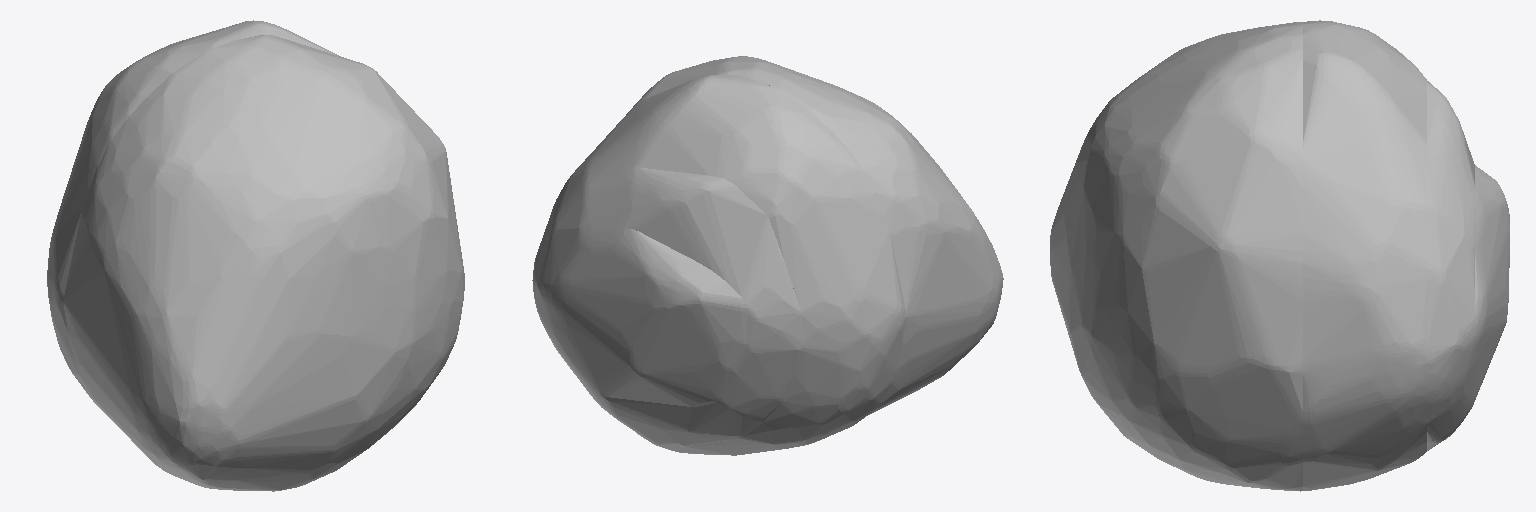
URDF robot description (root):
<robot name="root">
  <link name="link_coacd_convex_piece_0">
    <inertial>
      <origin xyz="0 0 0" rpy="0 0 0"/>
      <inertia ixx="1.75E-01" ixy="-2.16E-02" ixz="-5.01E-03" iyy="1.94E-01" iyz="-1.67E-02" izz="1.80E-01"/>
    </inertial>
    <visual>
      <origin xyz="0 0 0" rpy="0 0 0"/>
      <geometry>
        <mesh filename="coacd_convex_piece_0.obj" scale="1.0000E+00 1.0000E+00 1.0000E+00"/>
      </geometry>
      <material name="">
        <color rgba="7.50E-01 7.50E-01 7.50E-01 1"/>
      </material>
    </visual>
    <collision>
      <origin xyz="0 0 0" rpy="0 0 0"/>
      <geometry>
        <mesh filename="coacd_convex_piece_0.obj" scale="1.0000E+00 1.0000E+00 1.0000E+00"/>
      </geometry>
    </collision>
  </link>
  <link name="link_coacd_convex_piece_1">
    <inertial>
      <origin xyz="0 0 0" rpy="0 0 0"/>
      <inertia ixx="9.26E-02" ixy="-3.75E-03" ixz="3.26E-03" iyy="1.09E-01" iyz="4.44E-03" izz="8.98E-02"/>
    </inertial>
    <visual>
      <origin xyz="0 0 0" rpy="0 0 0"/>
      <geometry>
        <mesh filename="coacd_convex_piece_1.obj" scale="1.0000E+00 1.0000E+00 1.0000E+00"/>
      </geometry>
      <material name="">
        <color rgba="7.50E-01 7.50E-01 7.50E-01 1"/>
      </material>
    </visual>
    <collision>
      <origin xyz="0 0 0" rpy="0 0 0"/>
      <geometry>
        <mesh filename="coacd_convex_piece_1.obj" scale="1.0000E+00 1.0000E+00 1.0000E+00"/>
      </geometry>
    </collision>
  </link>
  <joint name="link_coacd_convex_piece_1_joint" type="fixed">
    <origin xyz="0 0 0" rpy="0 0 0"/>
    <parent link="link_coacd_convex_piece_0"/>
    <child link="link_coacd_convex_piece_1"/>
  </joint>
  <link name="link_coacd_convex_piece_2">
    <inertial>
      <origin xyz="0 0 0" rpy="0 0 0"/>
      <inertia ixx="9.65E-03" ixy="-6.82E-04" ixz="1.19E-04" iyy="1.11E-03" iyz="5.98E-04" izz="9.87E-03"/>
    </inertial>
    <visual>
      <origin xyz="0 0 0" rpy="0 0 0"/>
      <geometry>
        <mesh filename="coacd_convex_piece_2.obj" scale="1.0000E+00 1.0000E+00 1.0000E+00"/>
      </geometry>
      <material name="">
        <color rgba="7.50E-01 7.50E-01 7.50E-01 1"/>
      </material>
    </visual>
    <collision>
      <origin xyz="0 0 0" rpy="0 0 0"/>
      <geometry>
        <mesh filename="coacd_convex_piece_2.obj" scale="1.0000E+00 1.0000E+00 1.0000E+00"/>
      </geometry>
    </collision>
  </link>
  <joint name="link_coacd_convex_piece_2_joint" type="fixed">
    <origin xyz="0 0 0" rpy="0 0 0"/>
    <parent link="link_coacd_convex_piece_1"/>
    <child link="link_coacd_convex_piece_2"/>
  </joint>
  <link name="link_coacd_convex_piece_3">
    <inertial>
      <origin xyz="0 0 0" rpy="0 0 0"/>
      <inertia ixx="3.34E-02" ixy="-3.52E-03" ixz="8.37E-04" iyy="1.25E-02" iyz="2.58E-03" izz="3.40E-02"/>
    </inertial>
    <visual>
      <origin xyz="0 0 0" rpy="0 0 0"/>
      <geometry>
        <mesh filename="coacd_convex_piece_3.obj" scale="1.0000E+00 1.0000E+00 1.0000E+00"/>
      </geometry>
      <material name="">
        <color rgba="7.50E-01 7.50E-01 7.50E-01 1"/>
      </material>
    </visual>
    <collision>
      <origin xyz="0 0 0" rpy="0 0 0"/>
      <geometry>
        <mesh filename="coacd_convex_piece_3.obj" scale="1.0000E+00 1.0000E+00 1.0000E+00"/>
      </geometry>
    </collision>
  </link>
  <joint name="link_coacd_convex_piece_3_joint" type="fixed">
    <origin xyz="0 0 0" rpy="0 0 0"/>
    <parent link="link_coacd_convex_piece_2"/>
    <child link="link_coacd_convex_piece_3"/>
  </joint>
</robot>

--- What the picture shows (computed from the rendered views, not written in the file) ---
Views: 3 orthographic renders of the robot side by side, from view 1: azimuth 30°, elevation 25°; view 2: azimuth 150°, elevation 25°; view 3: azimuth 270°, elevation 25°.
Model root with 4 links and 3 joints (3 fixed), rooted at link_coacd_convex_piece_0, posed all joints at 0.
Links seen in each view (by area): view 1: link_coacd_convex_piece_0, link_coacd_convex_piece_1; view 2: link_coacd_convex_piece_1, link_coacd_convex_piece_3, link_coacd_convex_piece_0, link_coacd_convex_piece_2; view 3: link_coacd_convex_piece_0, link_coacd_convex_piece_1, link_coacd_convex_piece_3, link_coacd_convex_piece_2.
Link boxes in pixels (box(x1,y1,x2,y2)): link_coacd_convex_piece_0: box(64, 35, 464, 491); link_coacd_convex_piece_1: box(47, 20, 338, 401); link_coacd_convex_piece_1: box(533, 74, 905, 455); link_coacd_convex_piece_3: box(532, 167, 803, 446); link_coacd_convex_piece_0: box(633, 56, 1003, 414); link_coacd_convex_piece_2: box(549, 228, 747, 406); link_coacd_convex_piece_0: box(1050, 22, 1302, 491); link_coacd_convex_piece_1: box(1303, 20, 1426, 490); link_coacd_convex_piece_3: box(1427, 81, 1474, 450); link_coacd_convex_piece_2: box(1475, 165, 1509, 399).
Bounding box of the posed robot: 1.43 × 1.43 × 1.44 m (x, y, z).
4 mesh visuals loaded from 4 distinct referenced files (4 OBJ).